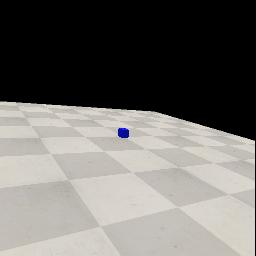box: (118, 128, 129, 138)
